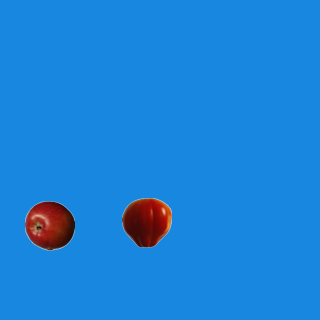Apple Braeburn: (24, 200, 74, 250)
Tomato 1: (121, 197, 171, 247)
